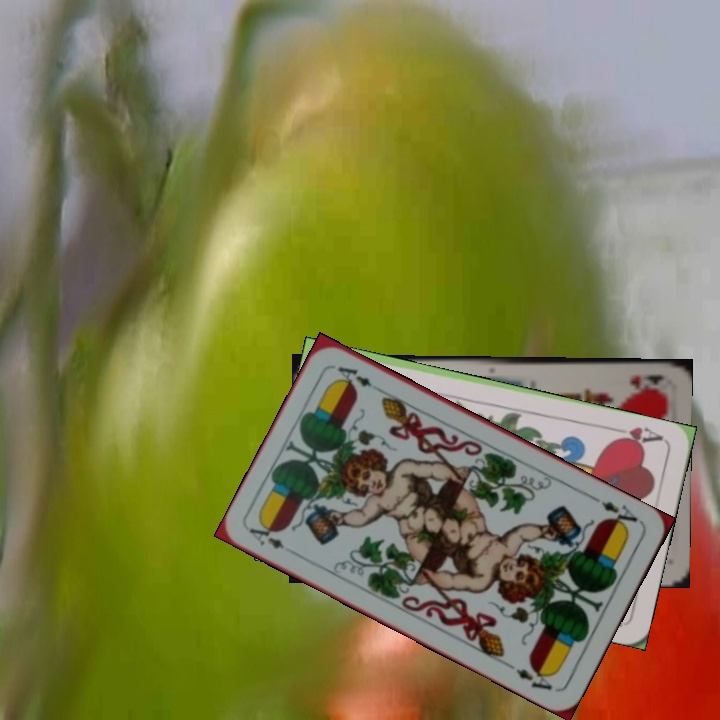EA: (245, 519, 300, 558), (589, 493, 640, 533)
HA: (607, 423, 666, 450)
HK: (626, 370, 666, 393)
